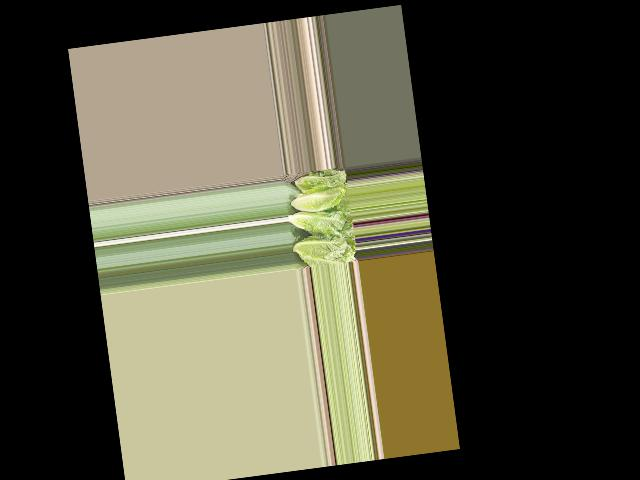lettuce: (295, 170, 347, 192)
